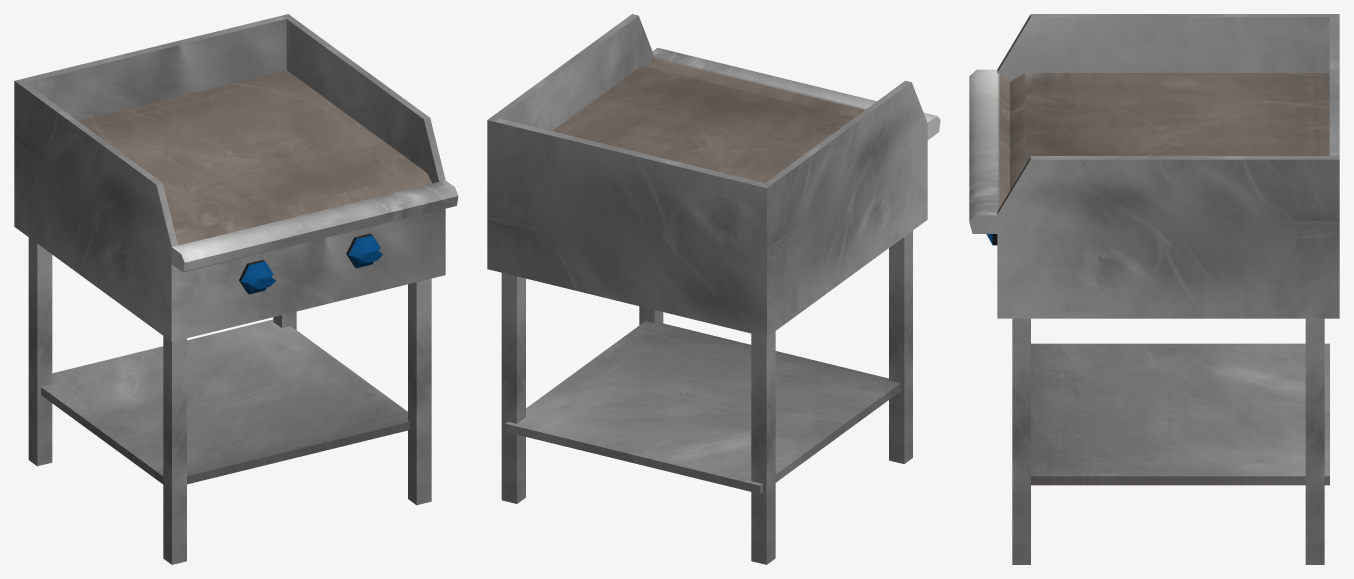
Rendered from Grill.dae.
3 views of the same model, side by side, from view 1: azimuth 30°, elevation 25°; view 2: azimuth 150°, elevation 25°; view 3: azimuth 270°, elevation 25° (orthographic). The views are drawn at different scales.
Parts seen in each view (by area): view 1: Grill; view 2: Grill; view 3: Grill.
Boxes of the visible parts, x1,y1,x2,y2 form: Grill: (14, 14, 458, 564); Grill: (487, 14, 940, 564); Grill: (969, 14, 1339, 564).
Bounding box in the file's own units: 0.9239 × 0.9942 × 1.21.
Materials: 1 (1 with a texture image).
